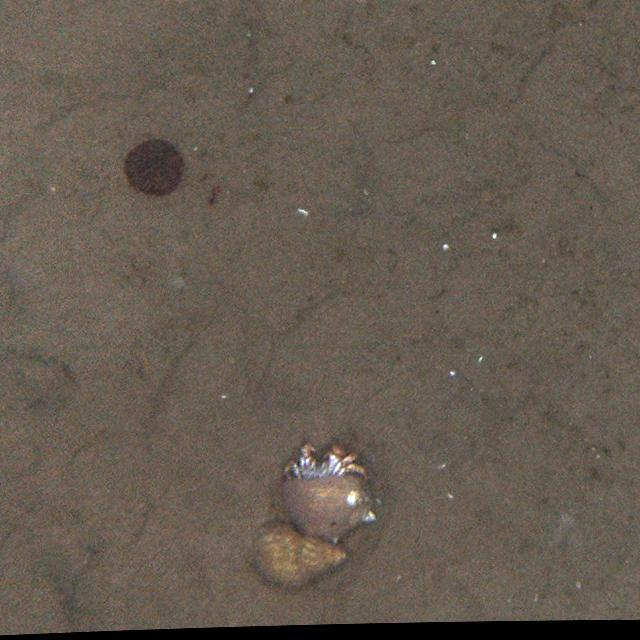whelk: (259, 524, 345, 590)
